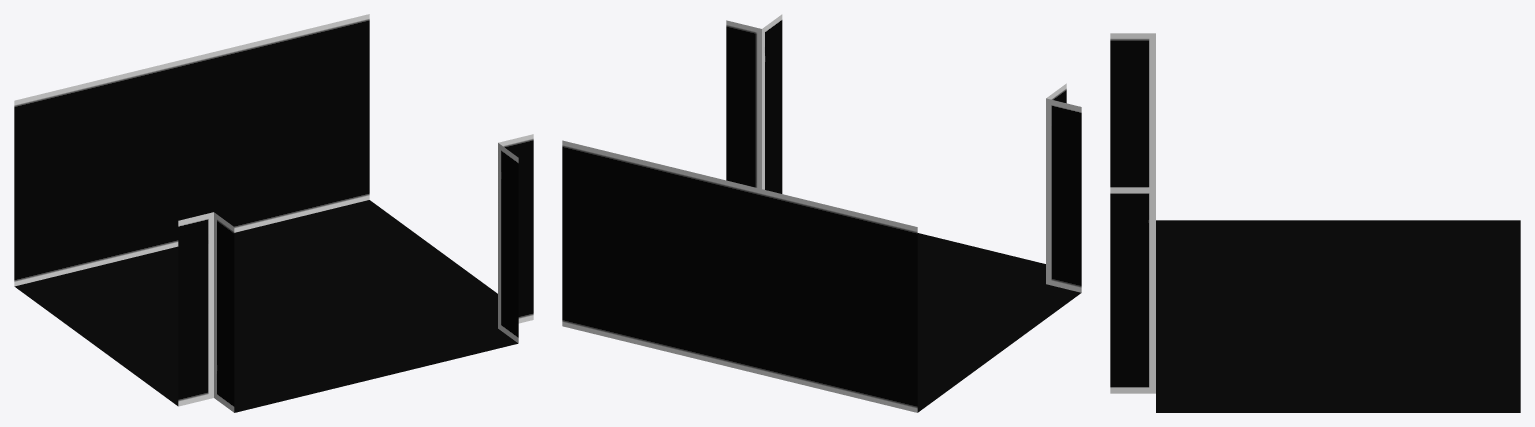
Rendered from duct-three-way-crossing.fbx.
3 views of the same model, side by side, from view 1: azimuth 30°, elevation 25°; view 2: azimuth 150°, elevation 25°; view 3: azimuth 270°, elevation 25° (orthographic). The views are drawn at different scales.
Visible parts, largest first — view 1: ThreeWay; view 2: ThreeWay; view 3: ThreeWay.
Part boxes in pixels (x1,y1,x2,y2): ThreeWay: (14,14,533,412); ThreeWay: (562,14,1081,412); ThreeWay: (1110,33,1520,412).
Bounding box in the file's own units: 100 × 50 × 90.
